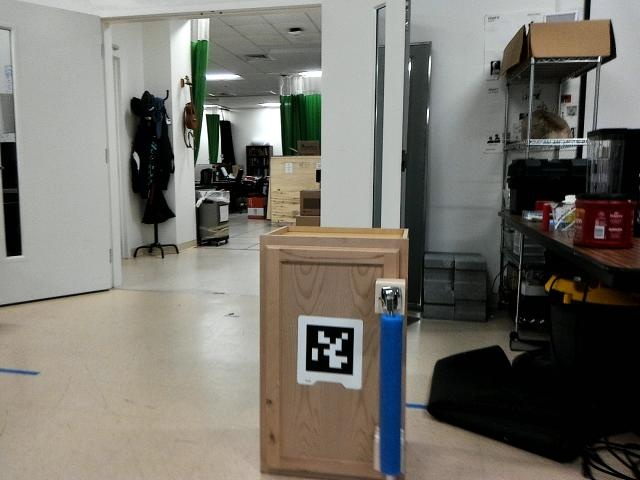noodle_handle: (374, 286, 405, 480)
